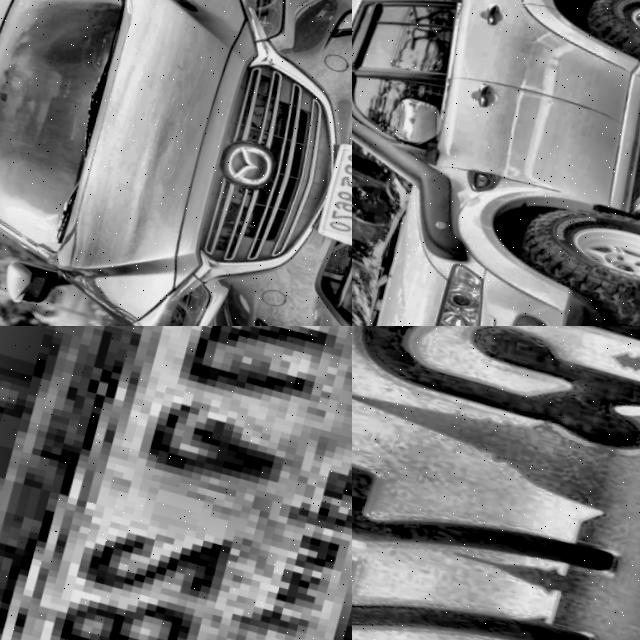license-plate: (0, 326, 352, 640), (352, 326, 640, 640), (310, 124, 352, 248)
